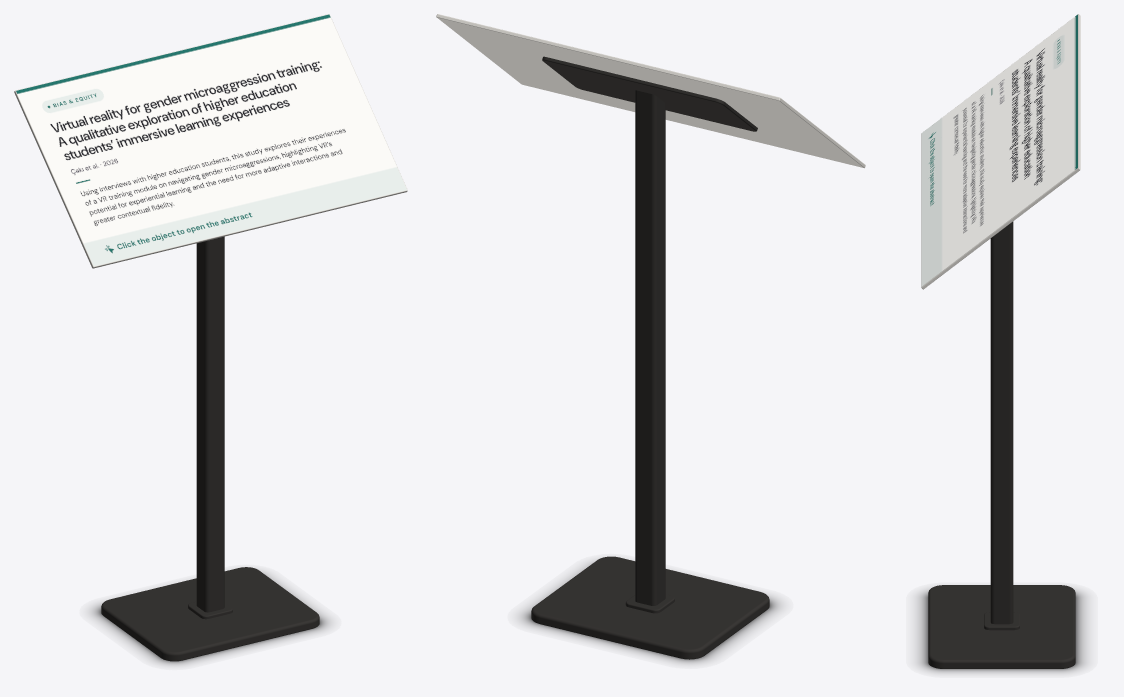
The model's file is plaque-caki-2026-stand.glb.
3 renders of one model, left to right at view 1: azimuth 30°, elevation 25°; view 2: azimuth 150°, elevation 25°; view 3: azimuth 270°, elevation 25°, orthographic. The views are drawn at different scales.
Visible parts, largest first — view 1: board, stand; view 2: stand, board; view 3: board, stand.
Part boxes in pixels (x1,y1,x2,y2): board: [14, 14, 407, 268]; stand: [91, 236, 329, 664]; stand: [520, 56, 779, 663]; board: [436, 14, 865, 168]; board: [921, 14, 1080, 289]; stand: [918, 221, 1085, 672].
Bounding box in the file's own units: 0.643 × 1.05 × 0.38.
Materials: 4 (2 with a texture image).
